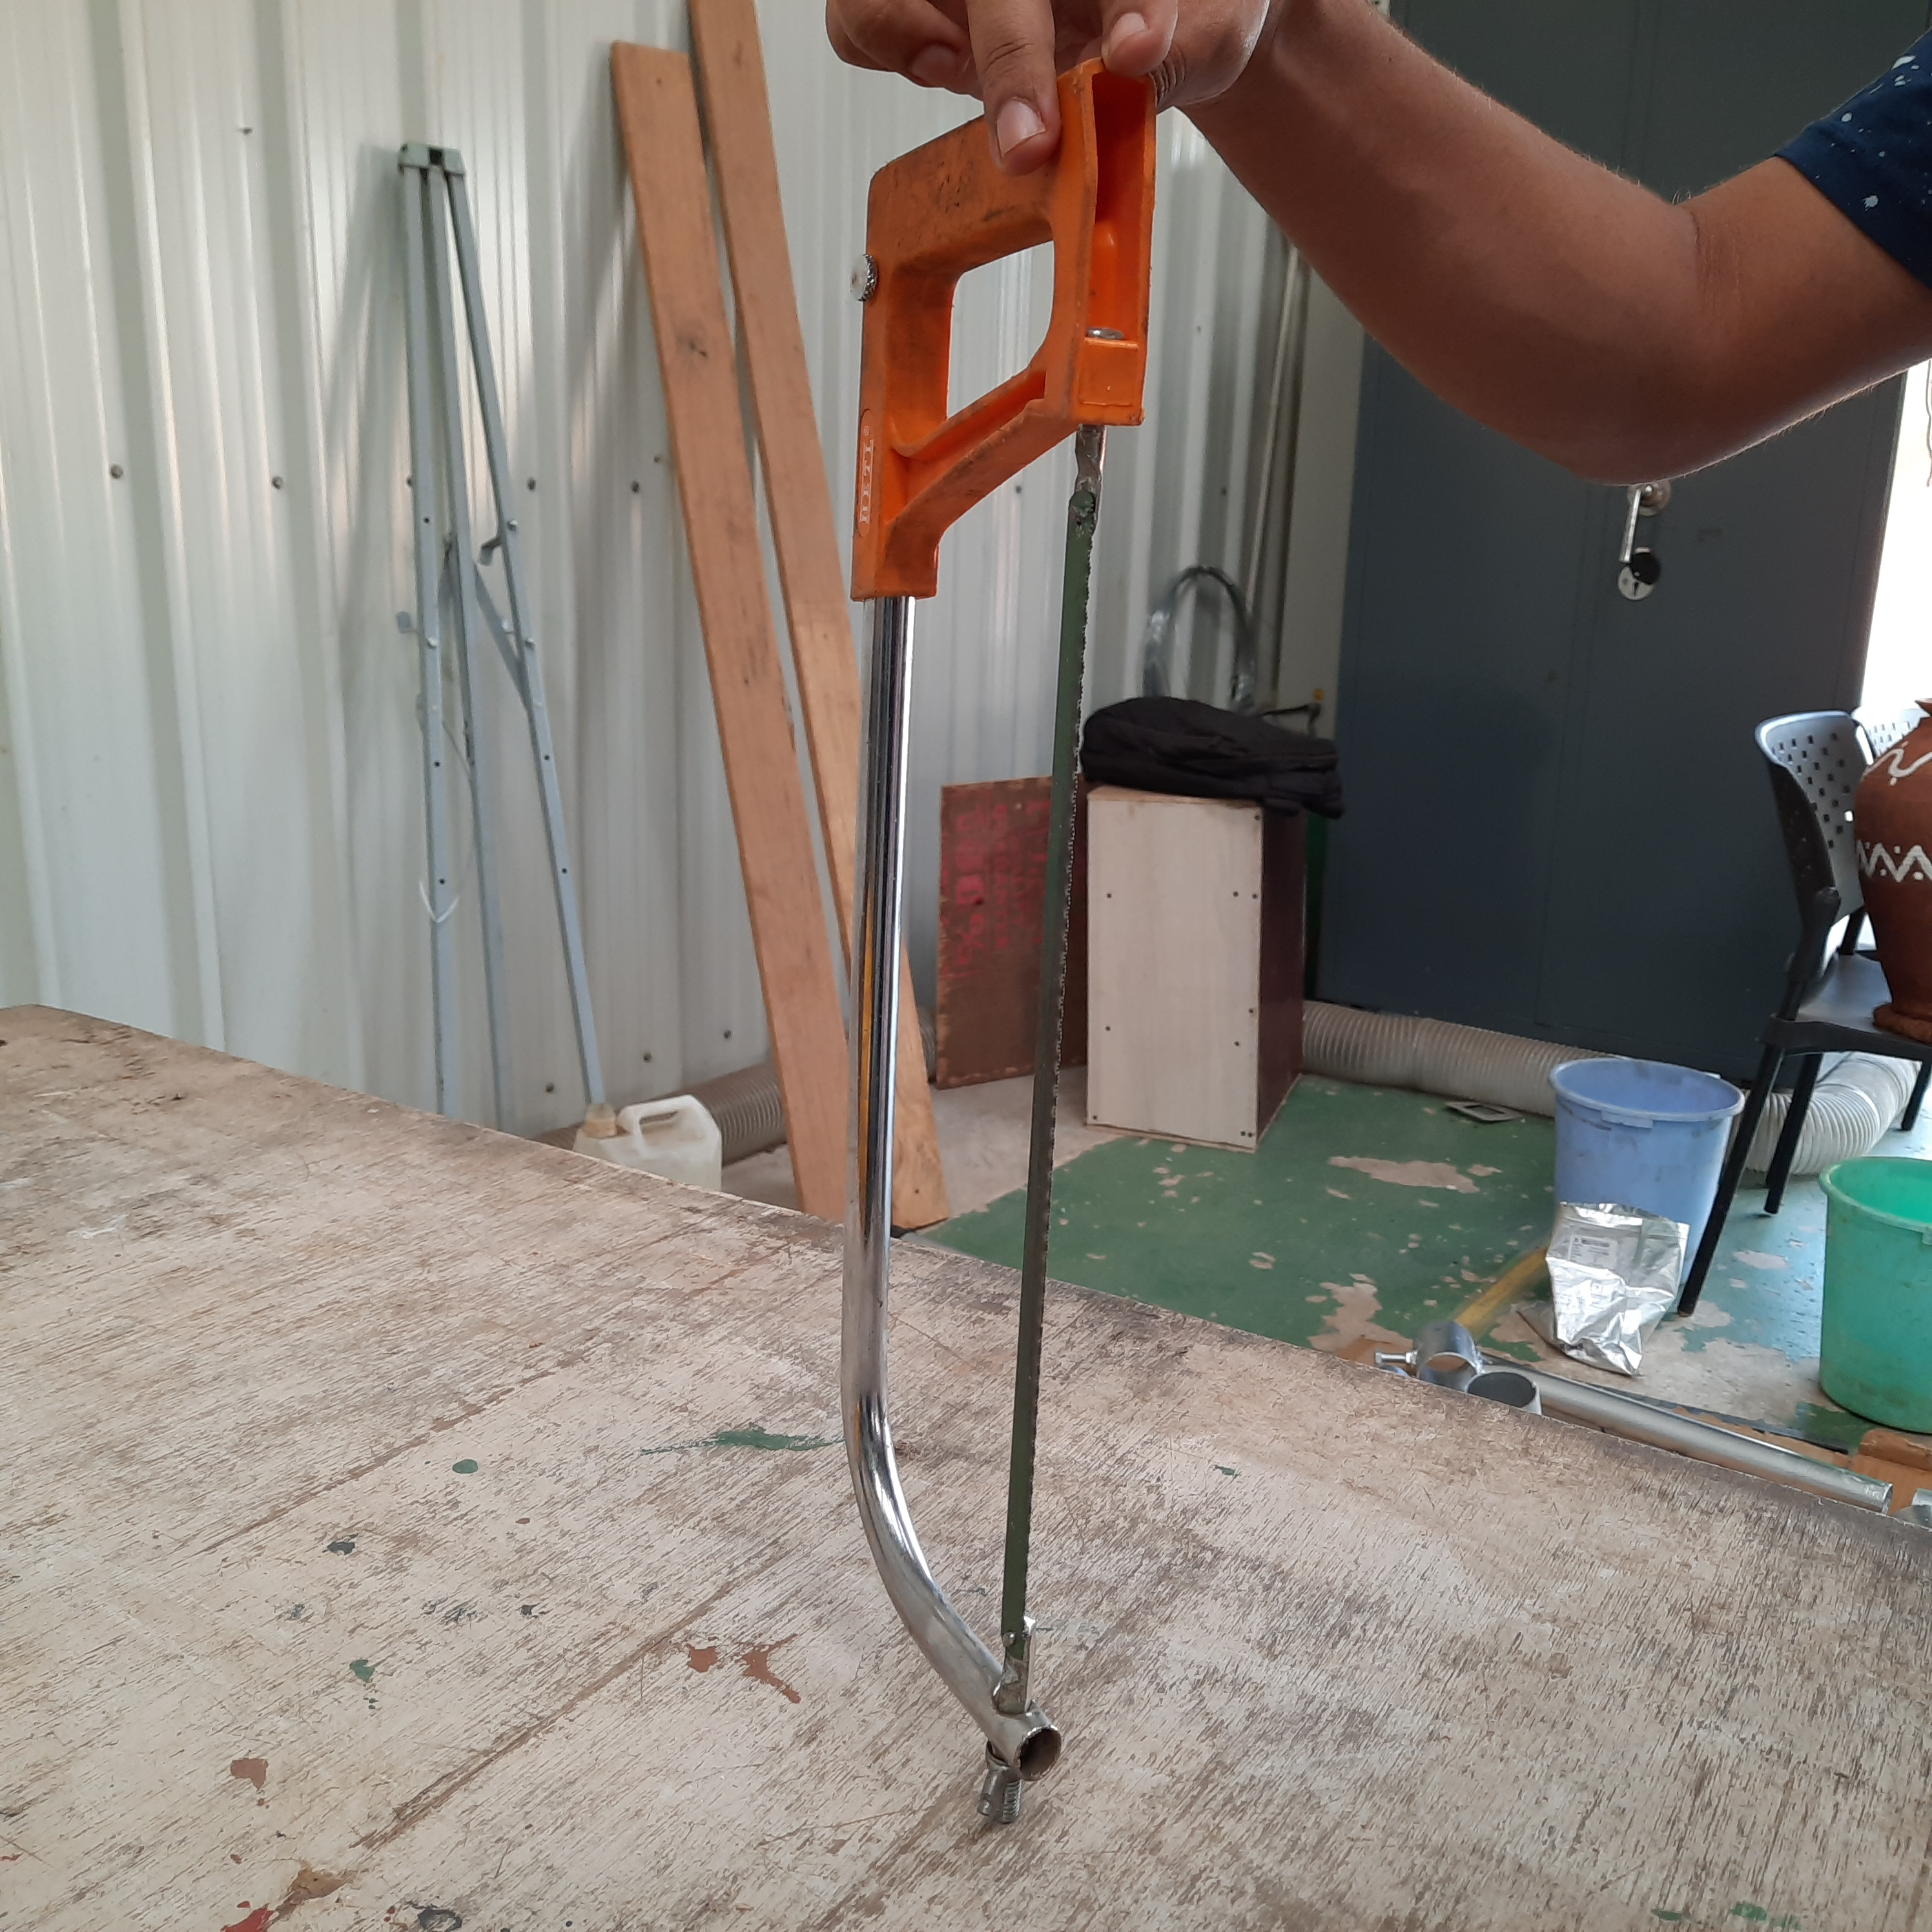Hexaframe: (833, 81, 1102, 1764)
